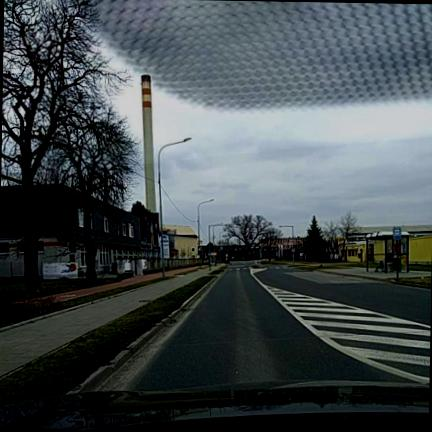Road: (107, 263, 430, 390)
